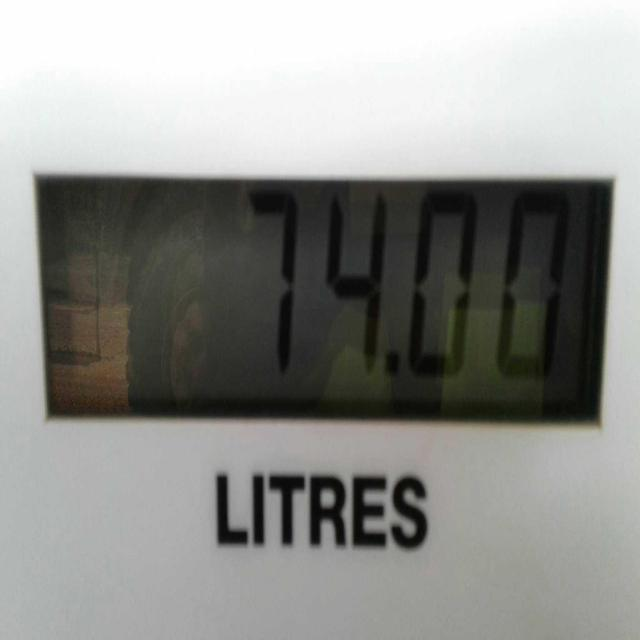.: (384, 345, 404, 386)
0: (494, 189, 569, 389), (410, 191, 477, 392)
4: (322, 188, 392, 378)
7: (245, 175, 308, 394)
